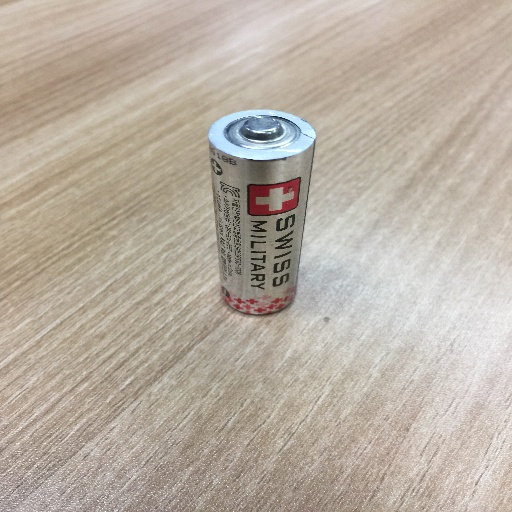Battery_0: (203, 100, 331, 334)
